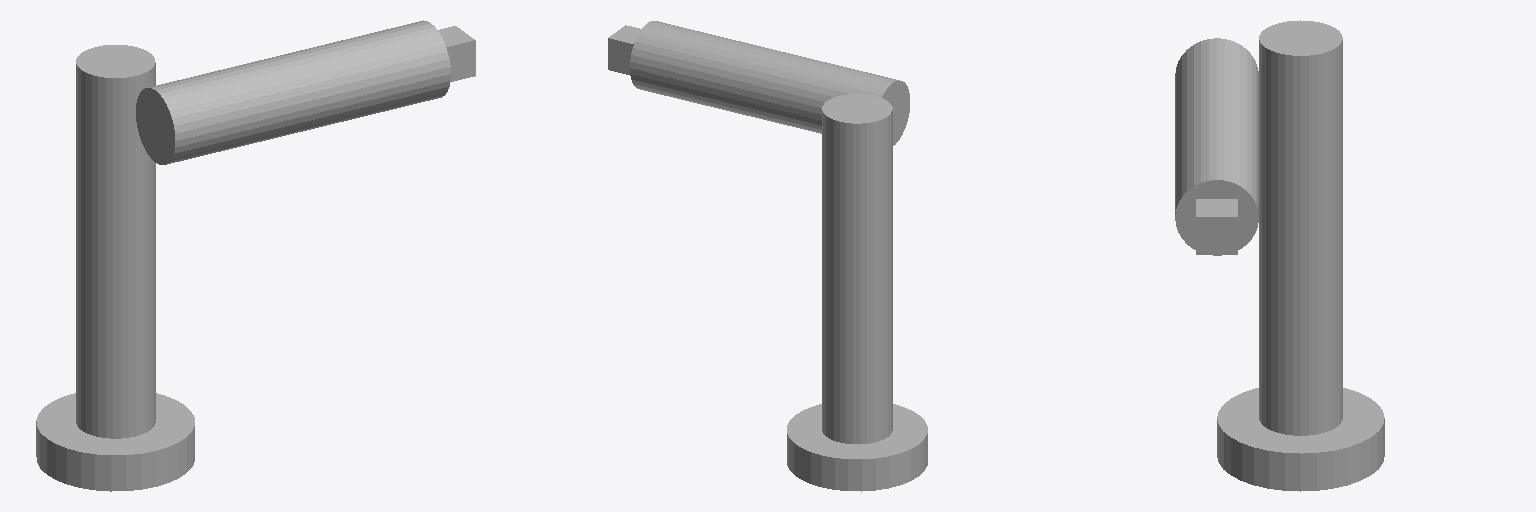
URDF robot description (cougarbot):
<?xml version="1.0"?>
<robot name="cougarbot">
  <link name="world"/>
  <link name="base_link">
    <visual>
      <geometry>
        <cylinder length="0.05" radius="0.1"/>
      </geometry>
      <material name="silver">
        <color rgba="0.75 0.75 0.75 1"/>
      </material>
      <origin rpy="0 0 0" xyz="0 0 0.025"/>
    </visual>
    <collision>
      <geometry>
        <cylinder length="0.05" radius="0.1"/>
      </geometry>
      <origin rpy="0 0 0" xyz="0 0 0.025"/>
    </collision>
    <inertial>
      <mass value="1.0"/>
      <origin rpy="0 0 0" xyz="0 0 0.025"/>
      <inertia ixx="0.0027" iyy="0.0027" izz="0.005" ixy="0" ixz="0" iyz="0"/>
    </inertial>
  </link>


  <link name="torso">
    <visual>
      <geometry>
        <cylinder length="0.5" radius="0.05"/>
      </geometry>
      <material name="silver"/>
      <origin rpy="0 0 0" xyz="0 0 0.25"/>
    </visual>
    <collision>
      <geometry>
        <cylinder length="0.5" radius="0.05"/>
      </geometry>
      <origin rpy="0 0 0" xyz="0 0 0.25"/>
    </collision>
    <inertial>
      <mass value="1.0"/>
      <origin rpy="0 0 0" xyz="0 0 0.25"/>
      <inertia ixx="0.02146" iyy="0.02146" izz="0.00125" ixy="0" ixz="0" iyz="0"/>
    </inertial>
  </link>


  <link name="upper_arm">
    <visual>
      <geometry>
        <cylinder length="0.4" radius="0.05"/>
      </geometry>
      <material name="silver"/>
      <origin rpy="0 0 0" xyz="0 0 0.2"/>
    </visual>
    <collision>
      <geometry>
        <cylinder length="0.4" radius="0.05"/>
      </geometry>
      <origin rpy="0 0 0" xyz="0 0 0.2"/>
    </collision>
    <inertial>
      <mass value="1.0"/>
      <origin rpy="0 0 0" xyz="0 0 0.2"/>
      <inertia ixx="0.01396" iyy="0.01396" izz="0.00125" ixy="0" ixz="0" iyz="0"/>
    </inertial>
  </link>
  

  <!-- <link name="lower_arm">
    <visual>
      <geometry>
        <cylinder length="0.4" radius="0.05"/>
      </geometry>
      <material name="silver"/>
      <origin rpy="0 0 0" xyz="0 0 0.2"/>
    </visual>
    <collision>
      <geometry>
        <cylinder length="0.4" radius="0.05"/>
      </geometry>
      <origin rpy="0 0 0" xyz="0 0 0.2"/>
    </collision>
    <inertial>
      <mass value="1.0"/>
      <origin rpy="0 0 0" xyz="0 0 0.2"/>
      <inertia ixx="0.01396" iyy="0.01396" izz="0.00125" ixy="0" ixz="0" iyz="0"/>
    </inertial>
  </link> -->


  <link name="hand">
    <visual>
      <geometry>
        <box size="0.05 0.05 0.05"/>
      </geometry>
      <material name="silver"/>
    </visual>
    <collision>
      <geometry>
        <box size="0.05 0.05 0.05"/>
      </geometry>
    </collision>
    <inertial>
      <mass value="1.0"/>
      <inertia ixx="0.00042" iyy="0.00042" izz="0.00042" ixy="0" ixz="0" iyz="0"/>
    </inertial>
  </link>


  <joint name="fixed" type="fixed">
    <parent link="world"/>
    <child link="base_link"/>
  </joint>
  <joint name="hip" type="revolute">
    <axis xyz="0 1 0"/>
    <limit upper="1.57" lower="-1.57" velocity="10" effort="10"/>
    <parent link="base_link"/>
    <child link="torso"/>
    <origin rpy="0 0 0" xyz="0 0 0.05"/>
  </joint>
  <joint name="shoulder" type="continuous">
    <axis xyz="0 1 0"/>
    <parent link="torso"/>
    <child link="upper_arm"/>
    <origin rpy="0 1.5708 0" xyz="0 -0.1 0.45"/>
  </joint>
  <joint name="wrist" type="continuous">
    <axis xyz="0 1 0"/>
    <parent link="upper_arm"/>
    <child link="hand"/>
    <origin rpy="0 0 0" xyz="0 0 0.425"/>
  </joint>
  <!-- <joint name="wrist" type="continuous">
    <axis xyz="0 1 0"/>
    <parent link="lower_arm"/>
    <child link="hand"/>
    <origin rpy="0 0 0" xyz="0 0 0.425"/>
  </joint> -->

  <transmission name="tran0">
    <type>transmission_interface/SimpleTransmission</type>
    <joint name="hip">
      <hardwareInterface>hardware_interface/PositionJointInterface</hardwareInterface>
    </joint>
    <actuator name="motor0">
      <hardwareInterface>hardware_interface/PositionJointInterface</hardwareInterface>
      <mechanicalReduction>1</mechanicalReduction>
    </actuator>
  </transmission>
  <transmission name="tran1">
    <type>transmission_interface/SimpleTransmission</type>
    <joint name="shoulder">
      <hardwareInterface>hardware_interface/PositionJointInterface</hardwareInterface>
    </joint>
    <actuator name="motor1">
      <hardwareInterface>hardware_interface/PositionJointInterface</hardwareInterface>
      <mechanicalReduction>1</mechanicalReduction>
    </actuator>
  </transmission>
  <!-- <transmission name="tran2">
    <type>transmission_interface/SimpleTransmission</type>
    <joint name="elbow">
      <hardwareInterface>hardware_interface/PositionJointInterface</hardwareInterface>
    </joint>
    <actuator name="motor2">
      <hardwareInterface>hardware_interface/PositionJointInterface</hardwareInterface>
      <mechanicalReduction>1</mechanicalReduction>
    </actuator>
  </transmission> -->
  <transmission name="tran3">
    <type>transmission_interface/SimpleTransmission</type>
    <joint name="wrist">
      <hardwareInterface>hardware_interface/PositionJointInterface</hardwareInterface>
    </joint>
    <actuator name="motor3">
      <hardwareInterface>hardware_interface/PositionJointInterface</hardwareInterface>
      <mechanicalReduction>1</mechanicalReduction>
    </actuator>
  </transmission>

  <gazebo>
    <plugin name="control" filename="libgazebo_ros_control.so"/>
    <plugin name="joint_state_publisher"
            filename="libgazebo_ros_joint_state_publisher.so">
      <jointName>hip, shoulder, wrist</jointName>
    </plugin>
  </gazebo>
</robot>

--- What the picture shows (computed from the rendered views, not written in the file) ---
The picture shows the robot from 3 angles, left to right: view 1: azimuth 30°, elevation 25°; view 2: azimuth 150°, elevation 25°; view 3: azimuth 270°, elevation 25°; orthographic projection.
Robot: cougarbot — 5 links, 4 joints (1 revolute, 2 continuous, 1 fixed); root link world; default pose: every joint at zero.
Links seen in each view (by area): view 1: torso, upper_arm, base_link, hand; view 2: torso, upper_arm, base_link, hand; view 3: torso, upper_arm, base_link, hand.
Boxes of the visible links, x1=… form: torso: x1=76, y1=45, x2=155, y2=438; upper_arm: x1=136, y1=20, x2=450, y2=164; base_link: x1=36, y1=393, x2=194, y2=491; hand: x1=438, y1=26, x2=475, y2=81; torso: x1=822, y1=94, x2=892, y2=444; upper_arm: x1=630, y1=21, x2=909, y2=145; base_link: x1=787, y1=404, x2=927, y2=491; hand: x1=608, y1=25, x2=640, y2=74; torso: x1=1259, y1=20, x2=1342, y2=435; upper_arm: x1=1175, y1=38, x2=1258, y2=255; base_link: x1=1217, y1=388, x2=1384, y2=491; hand: x1=1196, y1=199, x2=1237, y2=254.
Bounding box of the posed robot: 0.55 × 0.25 × 0.55 m (x, y, z).
Geometry: primitives only (box / cylinder / sphere), no mesh files.
